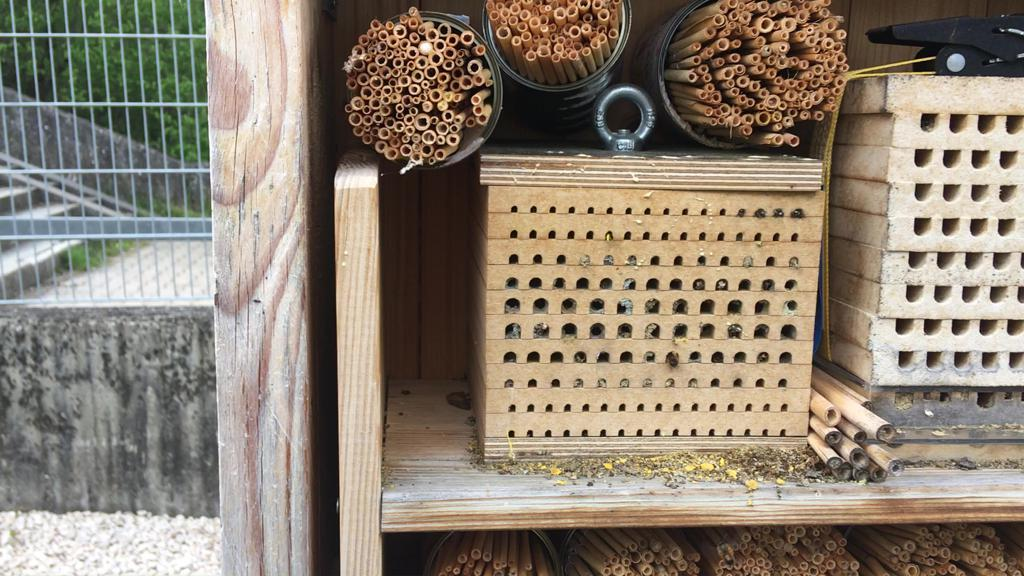bee: (659, 344, 689, 376)
